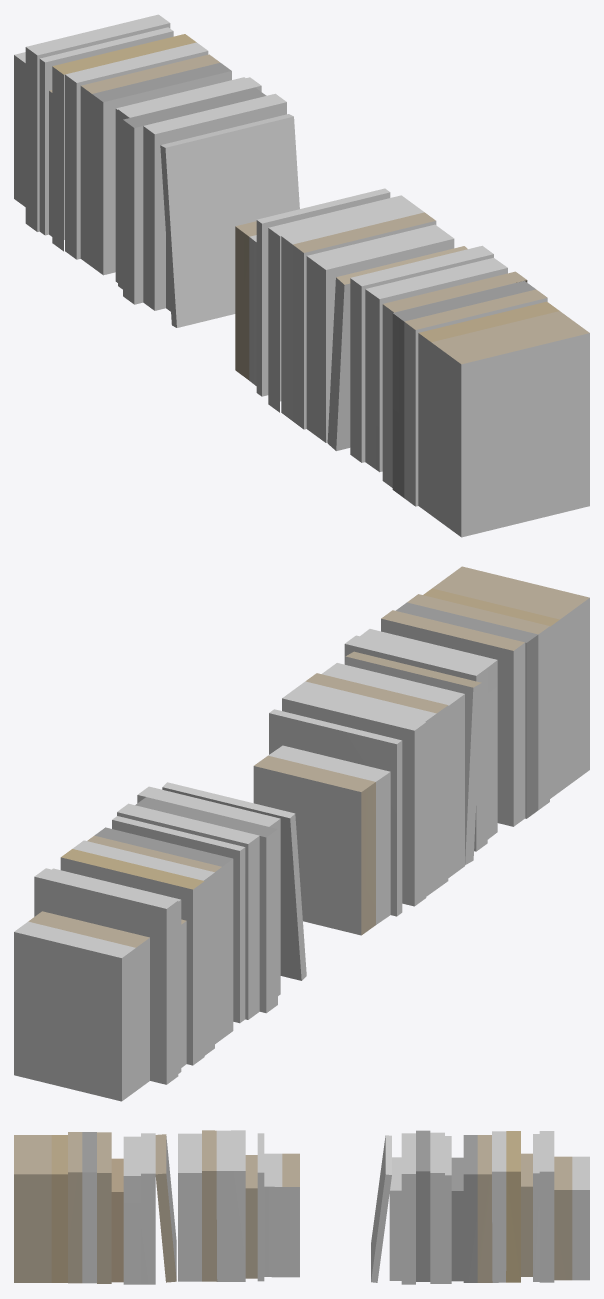
The model's file is SM_H_Government_Tide_Book_02D_ATLAS.fbx.
3 views of the same model, one above another, from view 1: azimuth 30°, elevation 25°; view 2: azimuth 150°, elevation 25°; view 3: azimuth 270°, elevation 25° (orthographic). The views are drawn at different scales.
Visible parts, largest first — view 1: SM_H_Government_Tide_Book_02D_ATLAS; view 2: SM_H_Government_Tide_Book_02D_ATLAS; view 3: SM_H_Government_Tide_Book_02D_ATLAS.
Part boxes in pixels (left/top/right/bottom): SM_H_Government_Tide_Book_02D_ATLAS: left=14, top=14, right=589, bottom=537; SM_H_Government_Tide_Book_02D_ATLAS: left=14, top=566, right=589, bottom=1101; SM_H_Government_Tide_Book_02D_ATLAS: left=14, top=1130, right=589, bottom=1284.
Size of the model in its own units: 29.97 by 167 by 35.73.
